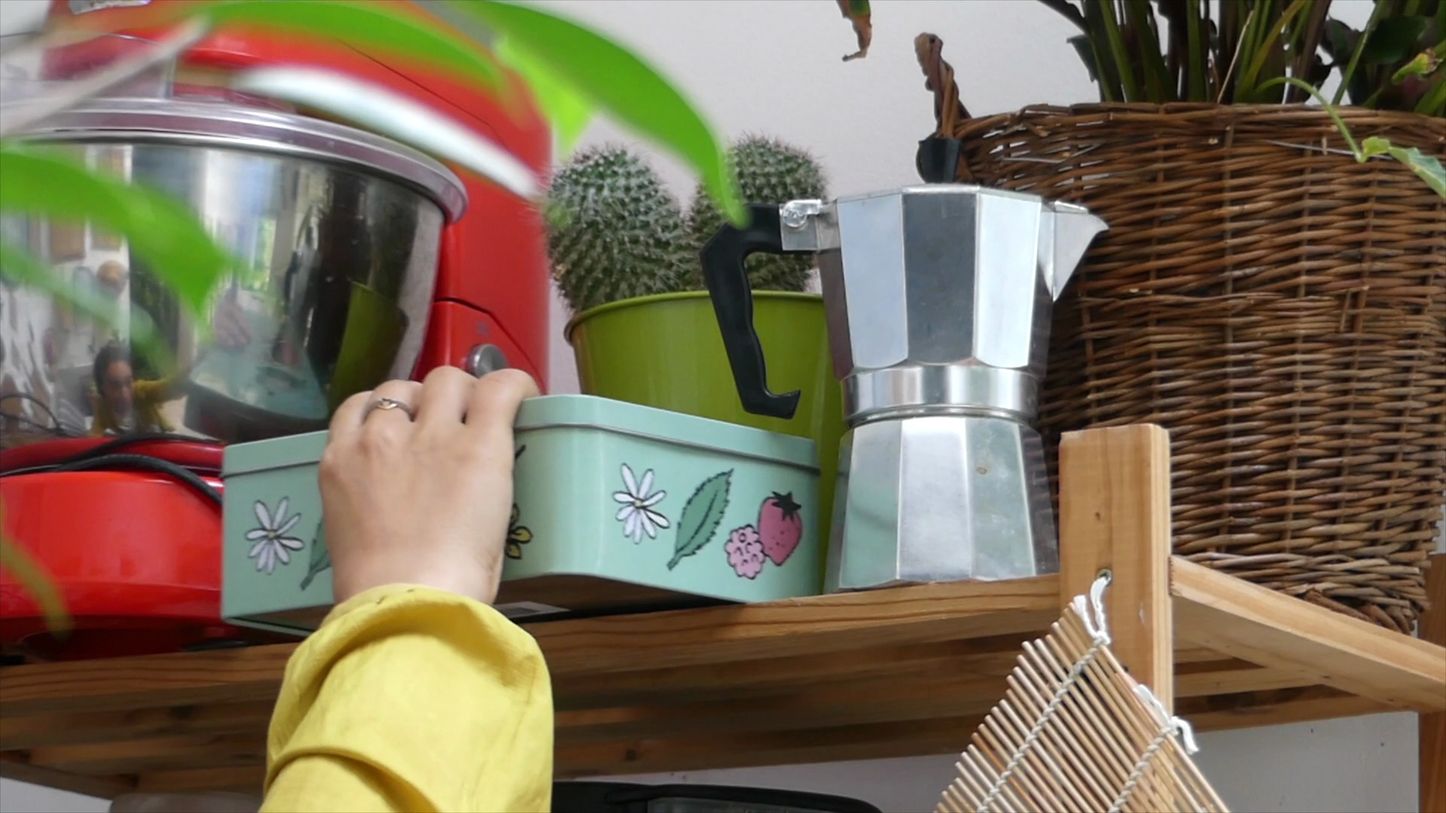dallah: (144, 250, 828, 813)
dates_box: (682, 158, 1348, 610), (718, 186, 982, 407)
electronics: (934, 0, 1446, 813), (1, 121, 341, 813), (0, 384, 329, 813)
perfume_bottle: (0, 0, 645, 523), (717, 187, 851, 427)
watch: (26, 72, 737, 813), (830, 0, 1402, 589), (1, 96, 515, 729), (345, 0, 1044, 461), (570, 0, 1186, 454), (982, 223, 1445, 813), (926, 393, 1446, 813), (795, 0, 1238, 493), (884, 586, 1271, 813), (917, 597, 1200, 813), (933, 645, 1276, 813), (888, 747, 1053, 813)
